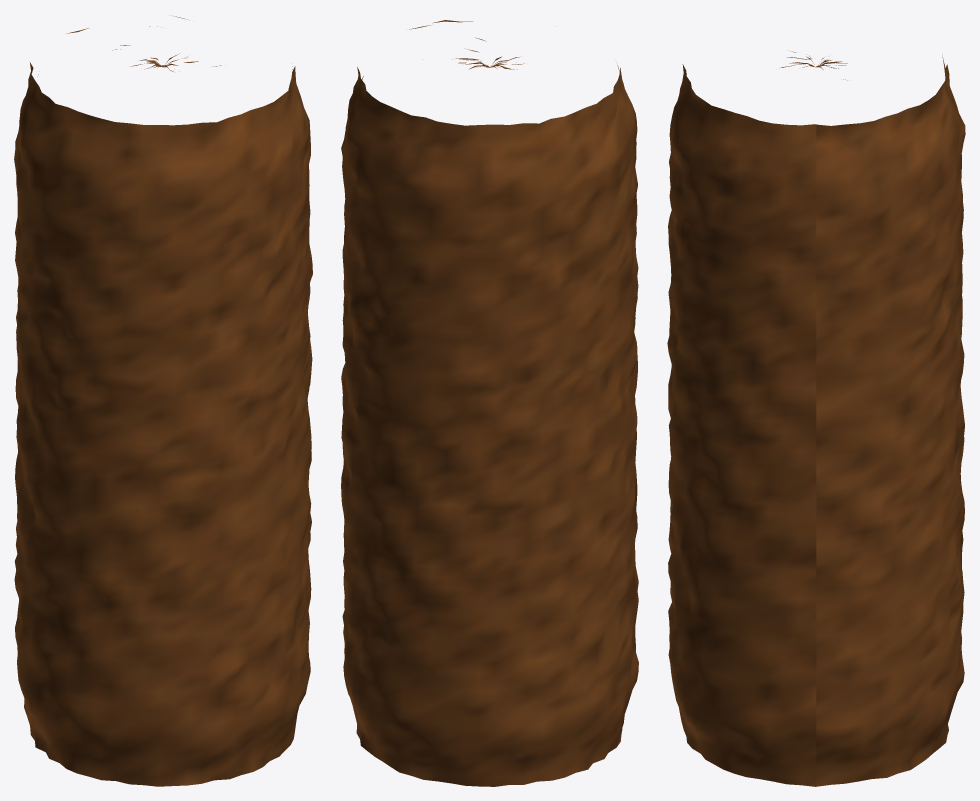
File: hero-pellet.glb
3 views of the same model, side by side, from view 1: azimuth 30°, elevation 25°; view 2: azimuth 150°, elevation 25°; view 3: azimuth 270°, elevation 25° (orthographic).
Parts seen in each view (by area): view 1: HeroWoodPellet; view 2: HeroWoodPellet; view 3: HeroWoodPellet.
Part boxes in pixels (x1,y1,x2,y2): HeroWoodPellet: (14,15,312,786); HeroWoodPellet: (341,20,638,786); HeroWoodPellet: (667,51,965,786).
Bounding box in the file's own units: 0.7819 × 1.95 × 0.7779.
